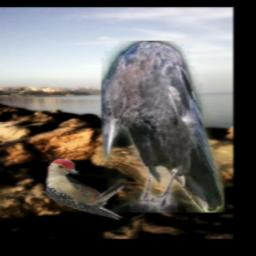Crow: (100, 41, 224, 213)
Woodpecker: (46, 159, 123, 222)
